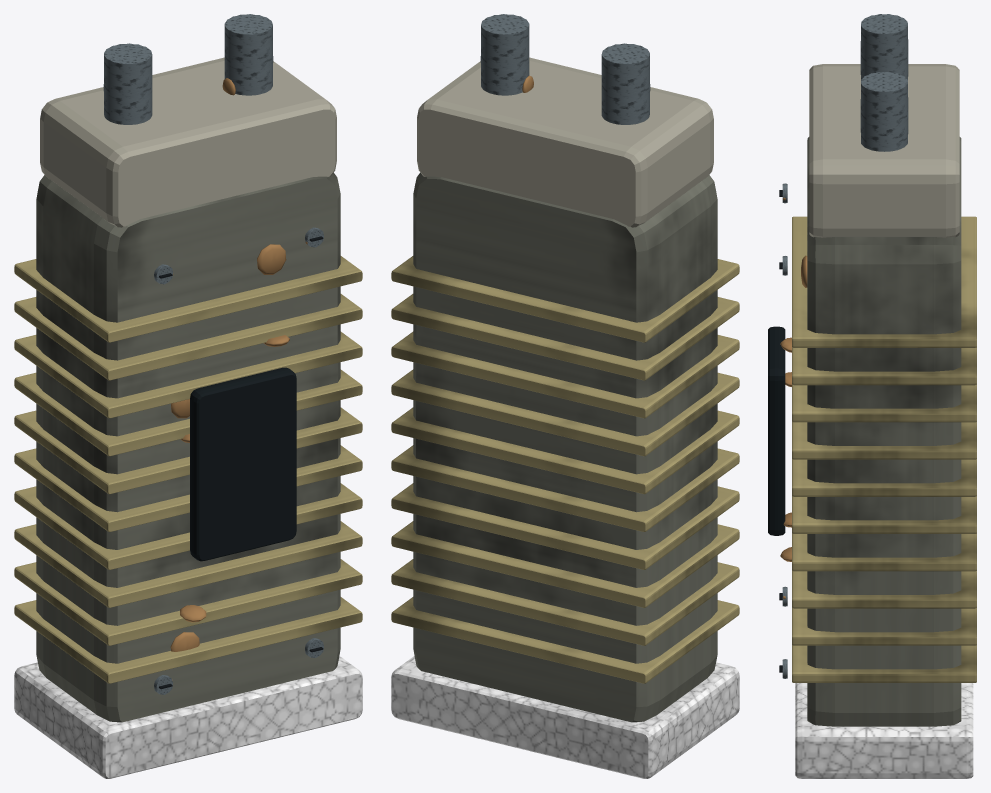
3 views of the same model, side by side, from view 1: azimuth 30°, elevation 25°; view 2: azimuth 150°, elevation 25°; view 3: azimuth 270°, elevation 25° (orthographic).
Visible parts, largest first — view 1: machined receiver, edge hardware, ceramic insulator, vulcanized grip, recess shadow, brushed steel, peened pin (×2); view 2: machined receiver, edge hardware, ceramic insulator, vulcanized grip, brushed steel; view 3: machined receiver, edge hardware, ceramic insulator, vulcanized grip, brushed steel, recess shadow, peened pin.
Boxes of the visible parts, x1,y1,x2,y2 form: machined receiver: [36, 172, 340, 722]; edge hardware: [14, 256, 362, 683]; ceramic insulator: [40, 57, 336, 227]; vulcanized grip: [14, 656, 362, 778]; recess shadow: [190, 367, 296, 561]; brushed steel: [103, 14, 323, 694]; peened pin (×2): [170, 244, 289, 651]; machined receiver: [413, 172, 717, 722]; edge hardware: [391, 256, 739, 683]; ceramic insulator: [417, 57, 713, 227]; vulcanized grip: [391, 656, 739, 778]; brushed steel: [480, 14, 650, 124]; machined receiver: [807, 137, 961, 726]; edge hardware: [792, 216, 976, 682]; ceramic insulator: [809, 64, 959, 237]; vulcanized grip: [795, 683, 973, 778]; brushed steel: [782, 14, 908, 678]; recess shadow: [768, 326, 785, 535]; peened pin: [780, 337, 791, 561].
Size of the model in its own units: 0.0866 by 0.2148 by 0.061.
9 materials, 4 textured.
